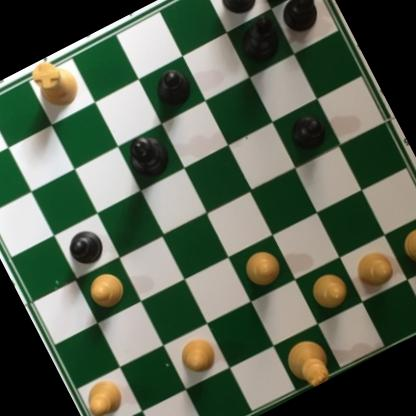black-bishop: (227, 11, 285, 70)
black-king: (117, 124, 178, 186)
black-knight: (208, 0, 267, 23)
black-pawn: (147, 63, 197, 115), (282, 106, 332, 157), (61, 224, 109, 272), (274, 0, 327, 39)
black-rook: (243, 0, 313, 5)
white-king: (277, 329, 339, 394)
white-pawn: (171, 328, 224, 382), (236, 243, 288, 295), (81, 265, 132, 316), (302, 266, 354, 316), (349, 245, 400, 295), (79, 373, 128, 416), (395, 222, 416, 271)
white-rook: (22, 52, 85, 119), (407, 253, 416, 321)
